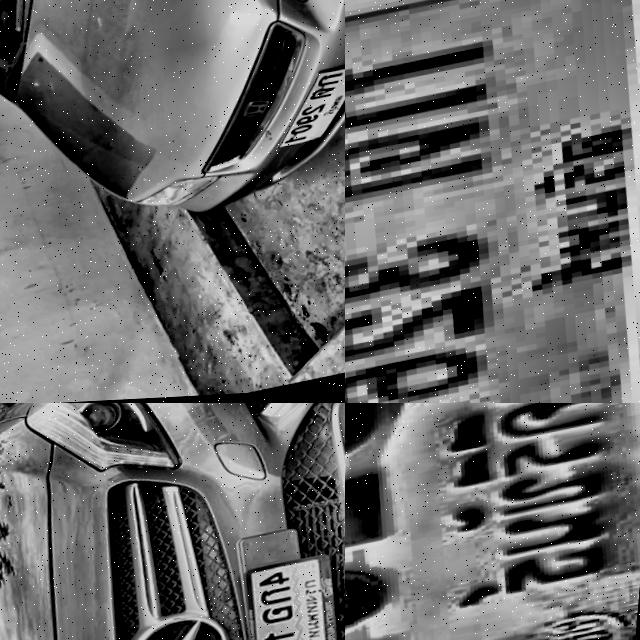license-plate: (345, 0, 640, 403), (345, 403, 640, 640), (235, 556, 345, 640), (271, 64, 345, 154)
